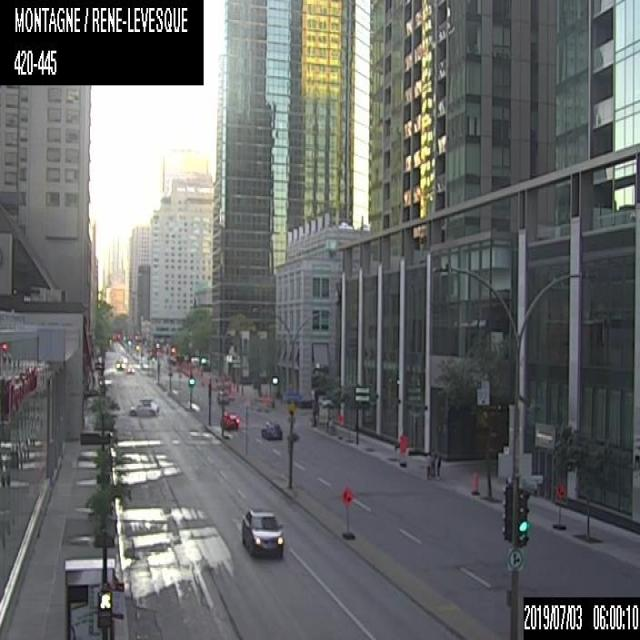construction: (341, 486, 354, 534), (554, 476, 566, 525), (398, 434, 407, 466)
pedestrian: (426, 451, 436, 480), (435, 453, 443, 478)
vehicle: (238, 507, 283, 557), (129, 396, 159, 416), (217, 409, 240, 428), (261, 418, 282, 438), (216, 388, 229, 405), (115, 357, 124, 368), (126, 363, 134, 373)
